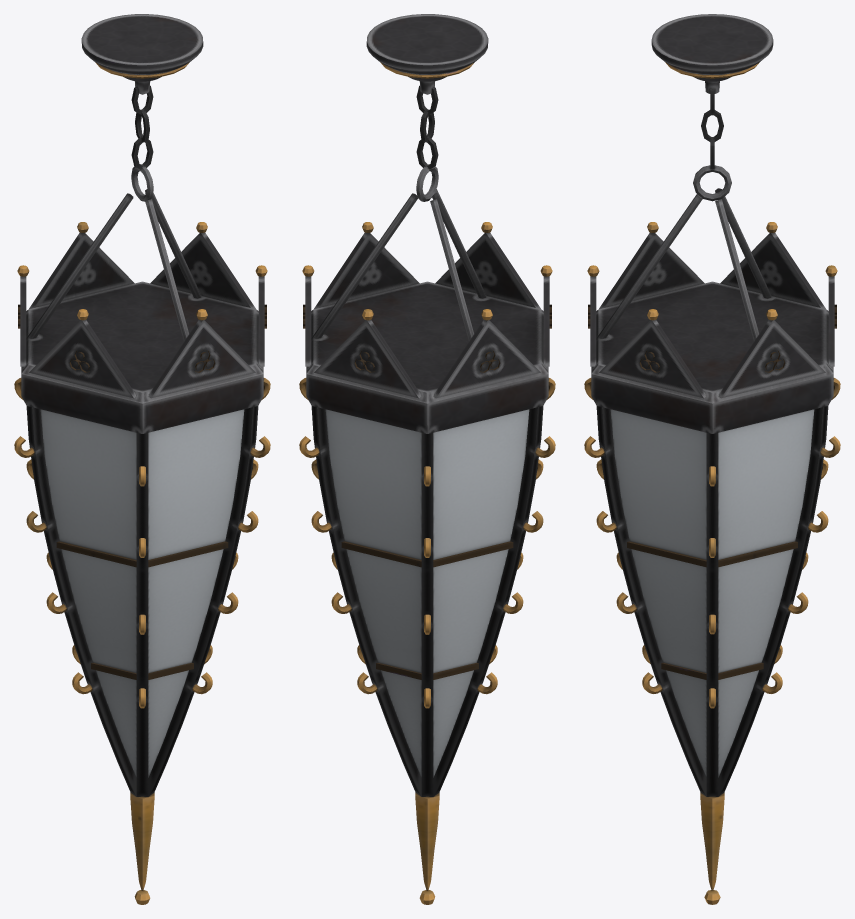
Rendered from PendantSpire.fbx.
The picture shows the model from 3 angles, left to right: view 1: azimuth 30°, elevation 25°; view 2: azimuth 150°, elevation 25°; view 3: azimuth 270°, elevation 25°; orthographic projection.
Visible parts, largest first — view 1: PendantSpire_Main, PendantSpire_Glass; view 2: PendantSpire_Main, PendantSpire_Glass; view 3: PendantSpire_Main, PendantSpire_Glass.
Part boxes in pixels (box(x1,y1,x2,y2)): PendantSpire_Main: box(14, 14, 270, 904); PendantSpire_Glass: box(40, 409, 244, 777); PendantSpire_Main: box(299, 14, 555, 904); PendantSpire_Glass: box(325, 409, 529, 777); PendantSpire_Main: box(584, 14, 840, 904); PendantSpire_Glass: box(610, 409, 814, 777).
Size of the model in its own units: 145 by 471 by 126.
